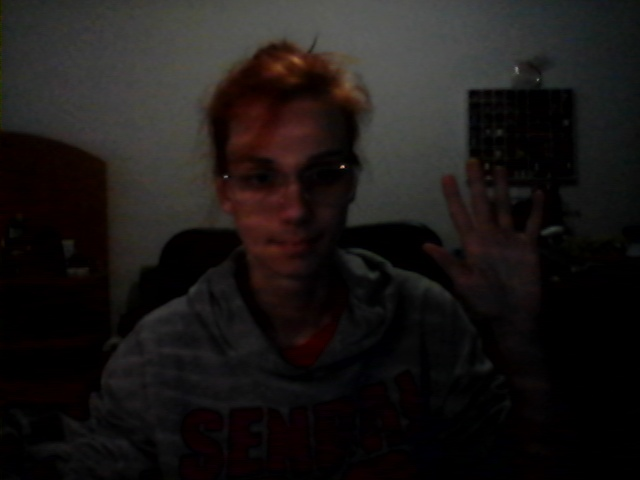ahoj: (417, 152, 555, 331)
